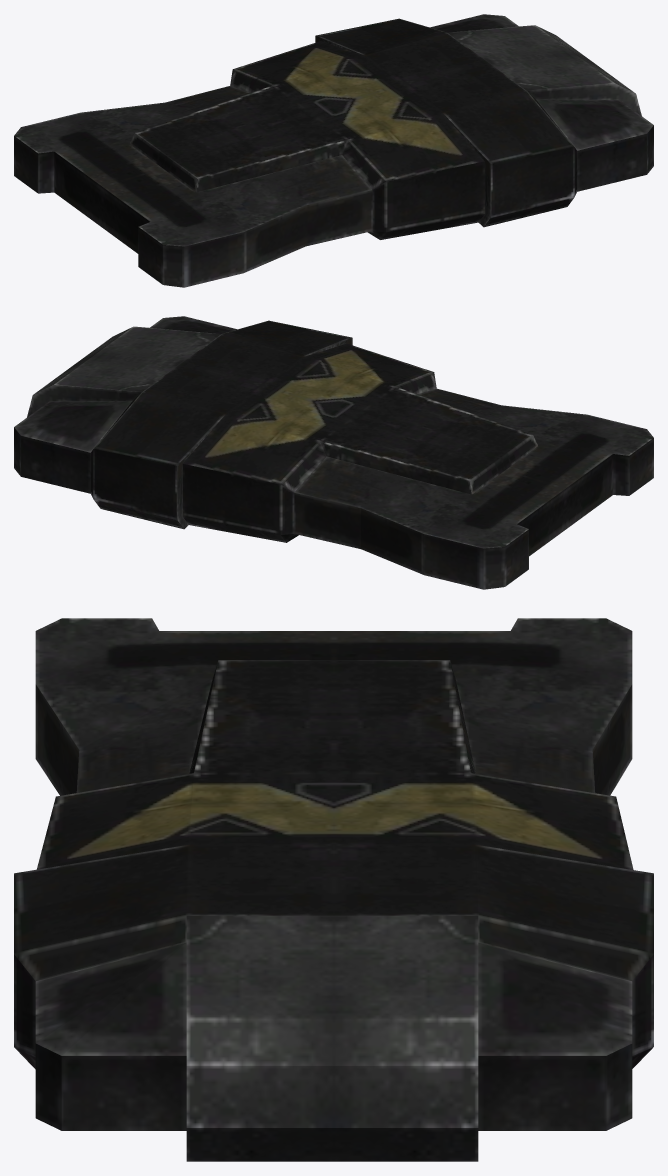
The model's file is audio diray.obj.
3 renders of one model, top to bottom at view 1: azimuth 30°, elevation 25°; view 2: azimuth 150°, elevation 25°; view 3: azimuth 270°, elevation 25°, orthographic. The views are drawn at different scales.
Parts seen in each view (by area): view 1: Mesh_mesh000; view 2: Mesh_mesh000; view 3: Mesh_mesh000.
Boxes of the visible parts, box(x1,y1,x2,y2) form: Mesh_mesh000: box(14, 14, 653, 287); Mesh_mesh000: box(14, 316, 653, 589); Mesh_mesh000: box(14, 618, 653, 1161).
Size of the model in its own units: 0.3306 by 0.057 by 0.1949.
Materials: 2 (2 with a texture image).
